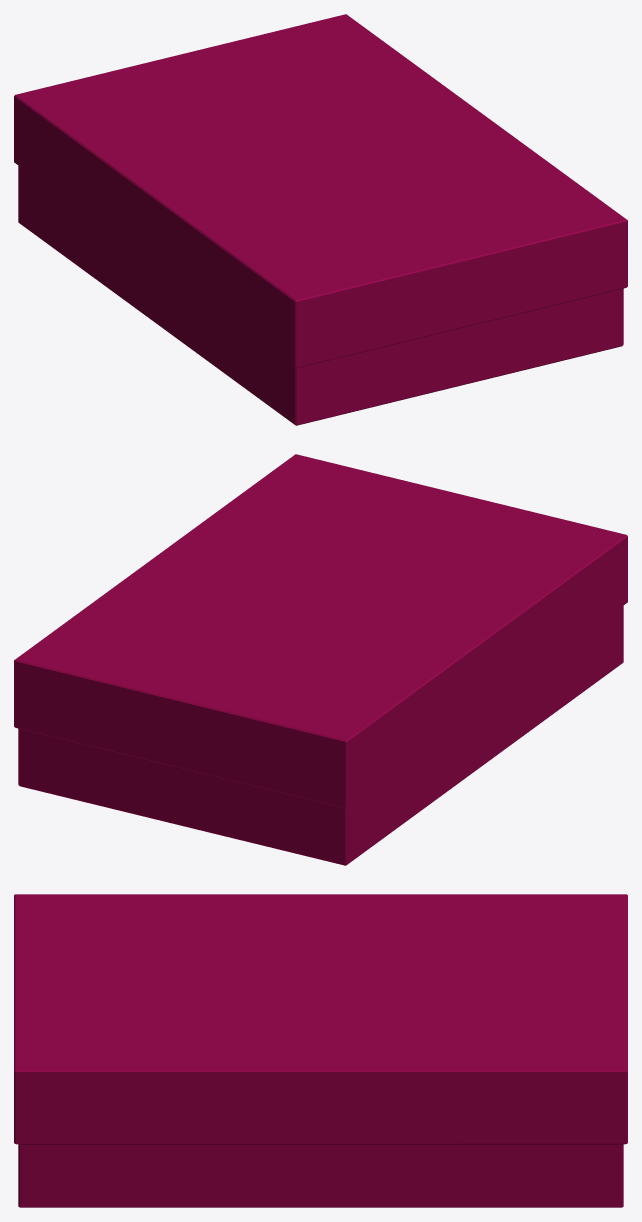
The model's file is Game_Box_02.fbx.
The picture shows the model from 3 angles, top to bottom: view 1: azimuth 30°, elevation 25°; view 2: azimuth 150°, elevation 25°; view 3: azimuth 270°, elevation 25°; orthographic projection. The views are drawn at different scales.
Visible parts, largest first — view 1: Game_Box_02; view 2: Game_Box_02; view 3: Game_Box_02.
Boxes of the visible parts, left/top/right/bottom form: Game_Box_02: left=14, top=14, right=627, bottom=425; Game_Box_02: left=14, top=454, right=627, bottom=865; Game_Box_02: left=14, top=894, right=627, bottom=1207.
Bounding box in the file's own units: 172 × 62.82 × 251.
